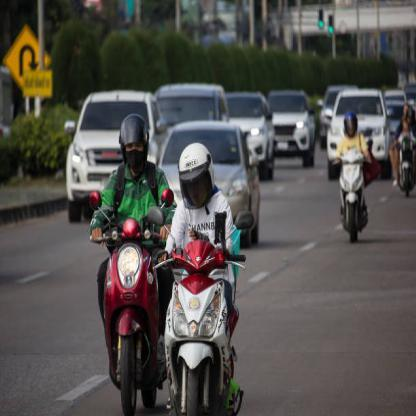Motorcycle: (155, 227, 238, 416), (90, 201, 162, 415)
